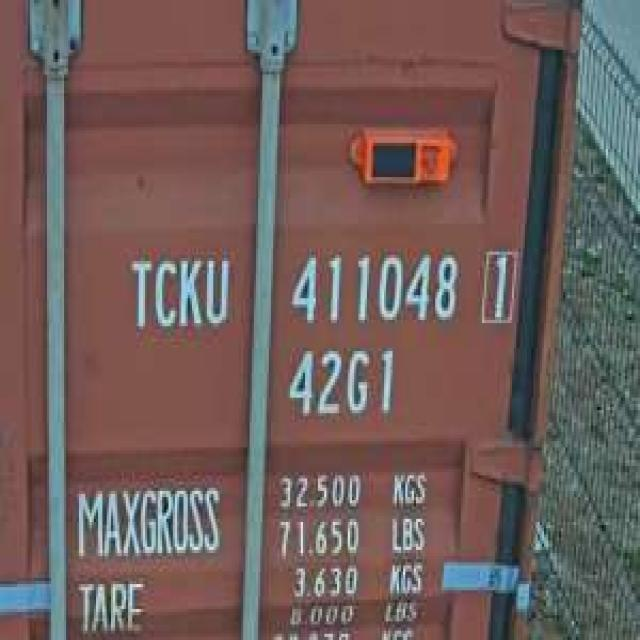dv: (476, 240, 520, 332)
owner: (122, 245, 235, 338)
serial: (282, 240, 460, 332)
size: (282, 338, 401, 428)
